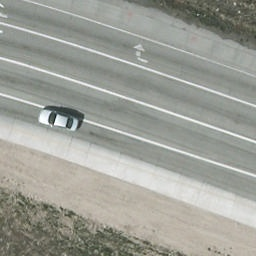car: (39, 107, 81, 133)
